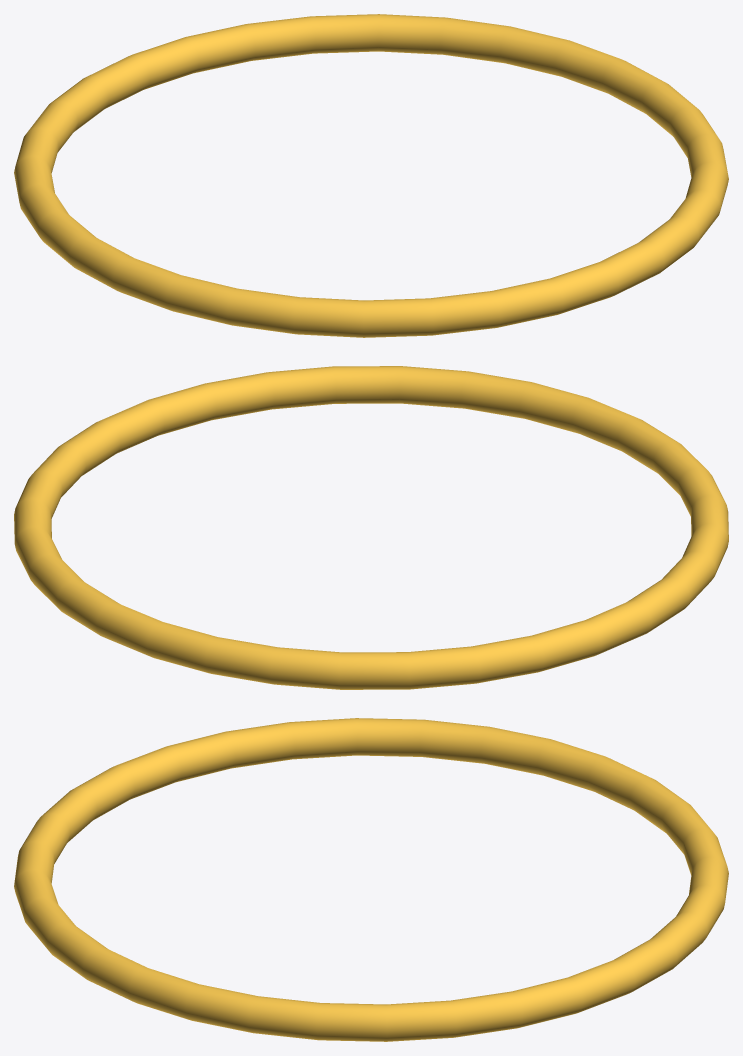
3 views of the same model, one above another, from view 1: azimuth 30°, elevation 25°; view 2: azimuth 150°, elevation 25°; view 3: azimuth 270°, elevation 25° (orthographic).
Parts seen in each view (by area): view 1: Torus.003; view 2: Torus.003; view 3: Torus.003.
Boxes of the visible parts, x1=… form: Torus.003: x1=14, y1=14, x2=728, y2=337; Torus.003: x1=14, y1=366, x2=728, y2=689; Torus.003: x1=14, y1=718, x2=728, y2=1041.
Bounding box in the file's own units: 54.89 × 54.89 × 2.88.
